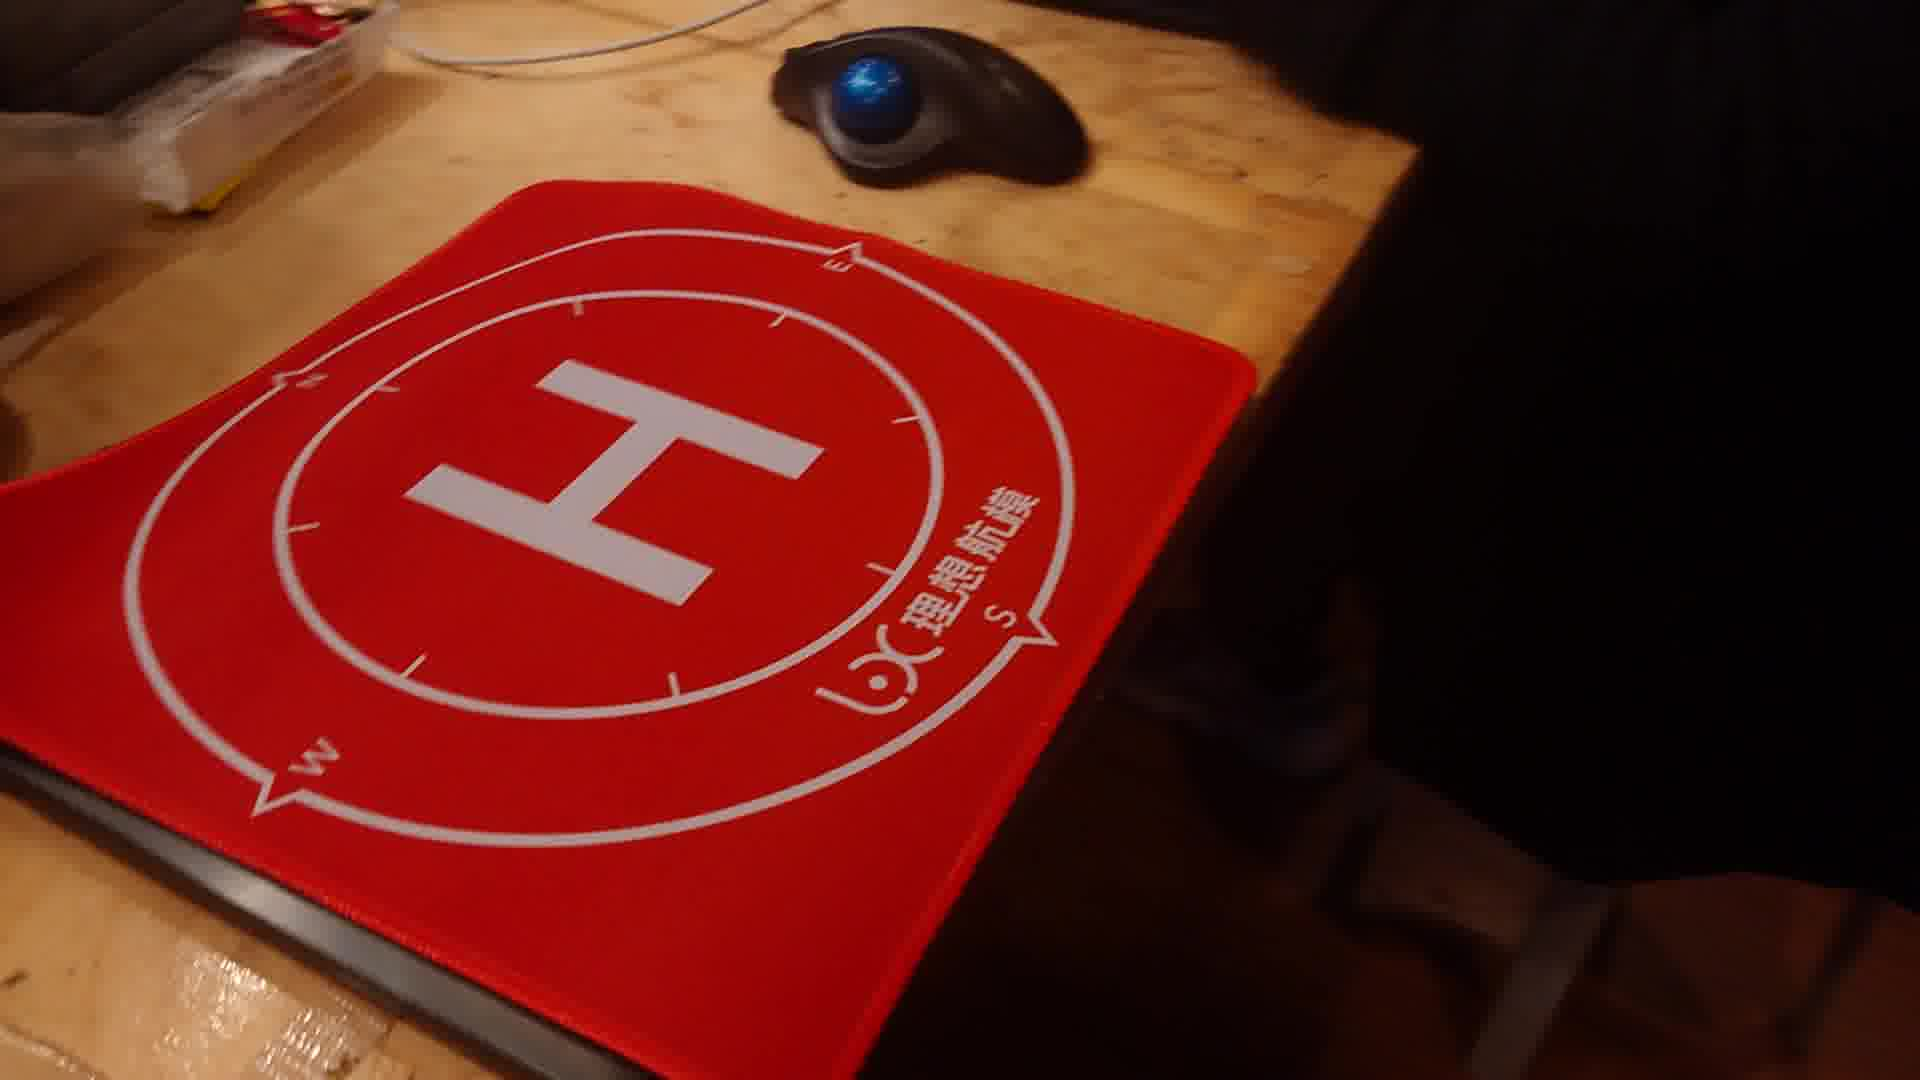H: (398, 359, 827, 607)
